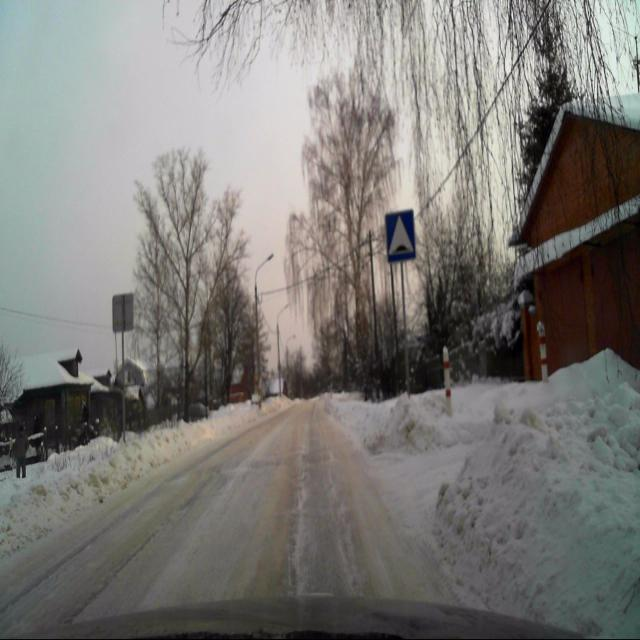object: (398, 264, 412, 400)
road sign: (386, 210, 415, 263)
